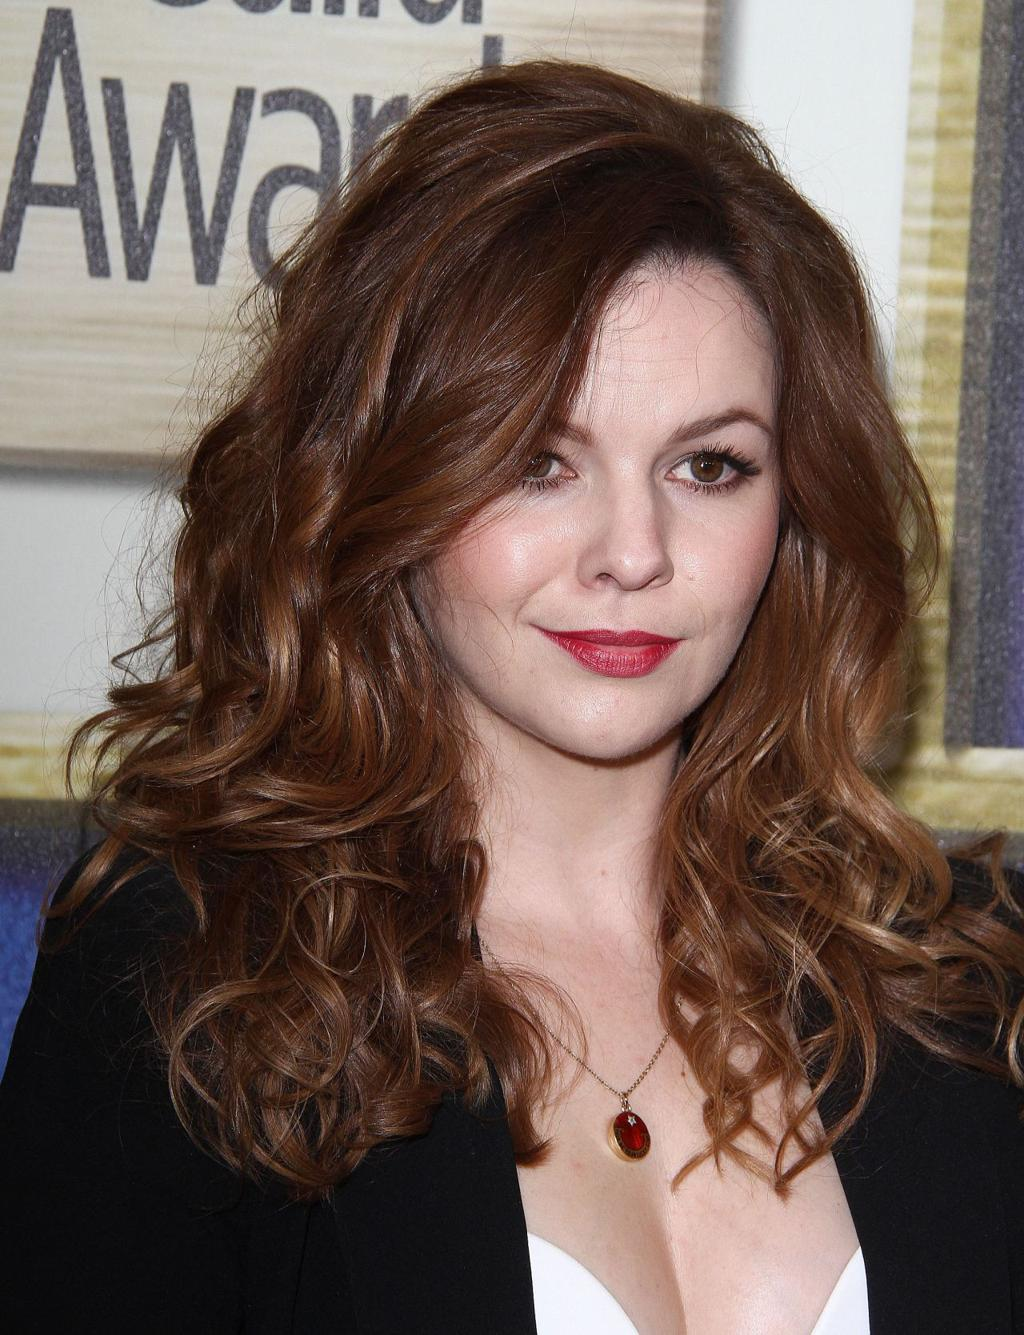face: (414, 245, 781, 761)
